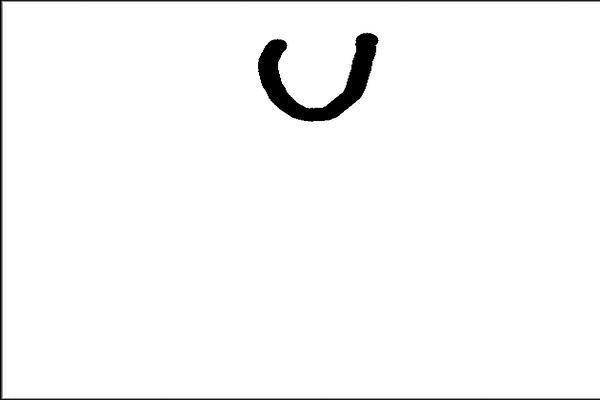U: (257, 23, 387, 122)
